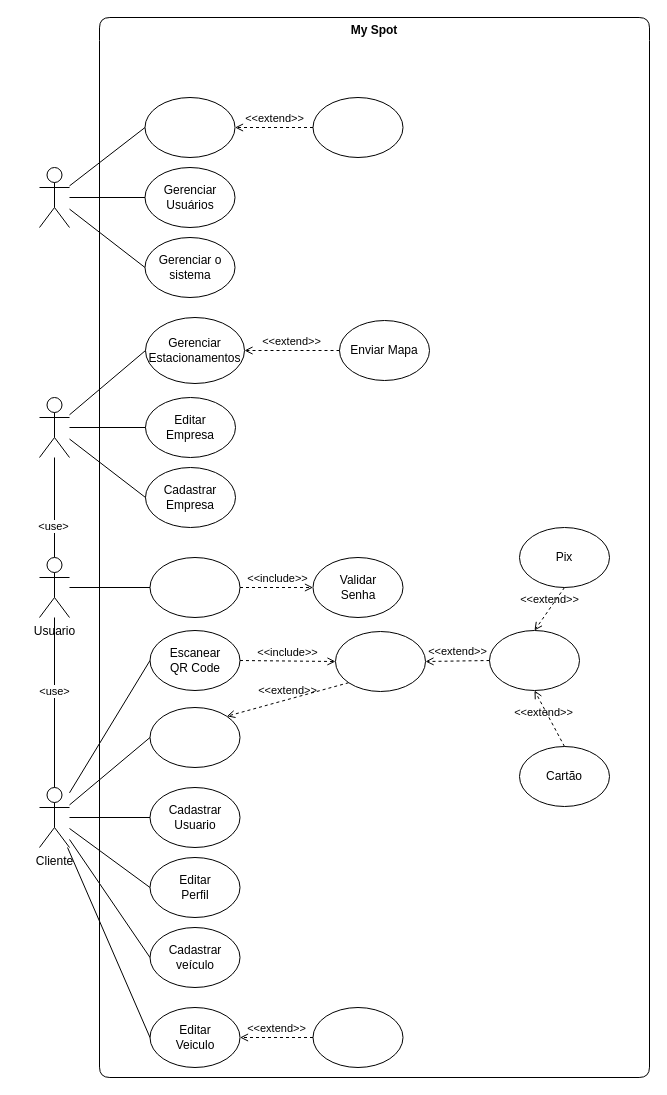
Some shapes in this 667 by 1095 pixel diagram are drawn without their labels. Each missing label, with the centre of its shape:
Administrador: (x=54, y=197)
Autenticar Mapa: (x=357, y=127)
Empresa: (x=54, y=427)
Excluir Veiculo: (x=357, y=1037)
Gerenciar Empresas: (x=189, y=127)
Logar: (x=194, y=587)
Pagamento: (x=534, y=660)
Ver as Empresas: (x=194, y=737)
Ver Vagas Disponíveis: (x=380, y=661)
